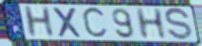9: (110, 7, 136, 39)
C: (80, 5, 110, 41)
H: (134, 7, 169, 41), (22, 5, 57, 39)
S: (164, 7, 194, 43)
X: (51, 6, 84, 39)
